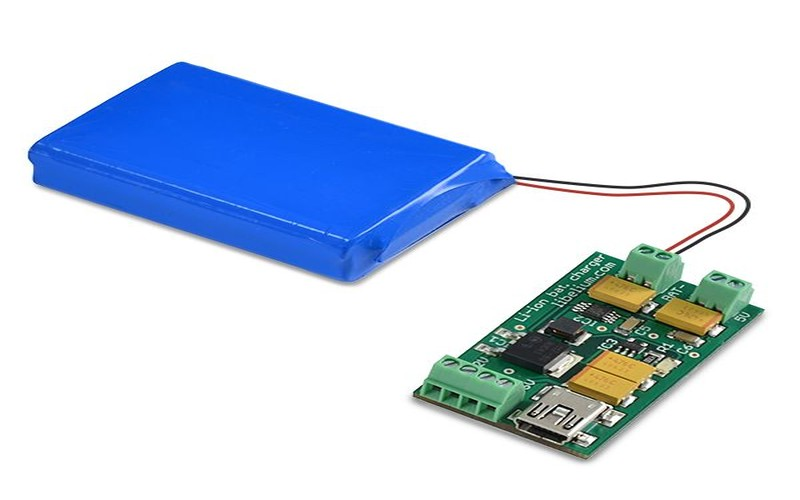Regulator: (438, 227, 767, 456)
